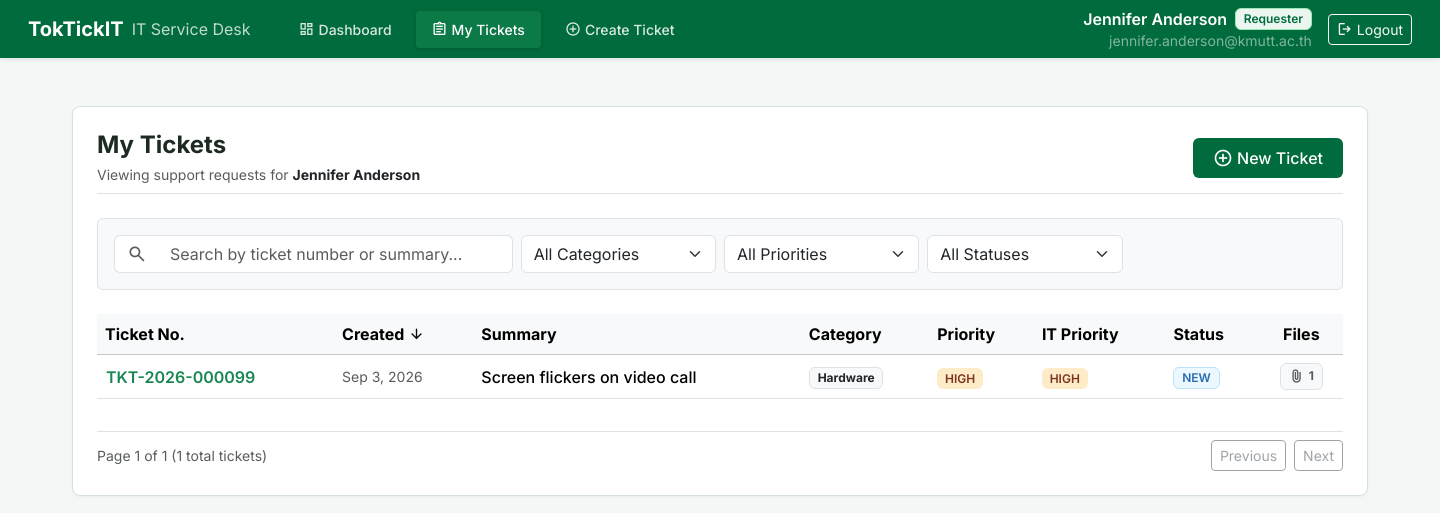
Test: Lab 2 Requester Ticket Detail Suite (client/tests/lab-02/RequesterTicketDetail.test.tsx) › displays unauthorized error alert when accessing non-owned ticket (UI-08, AC-14, BR-05)
The width and height of the screenshot is (1440, 513).
Step 1. Click the button "TKT-2026-000099" → (181, 377), box x1=105 y1=364 x2=256 y2=390
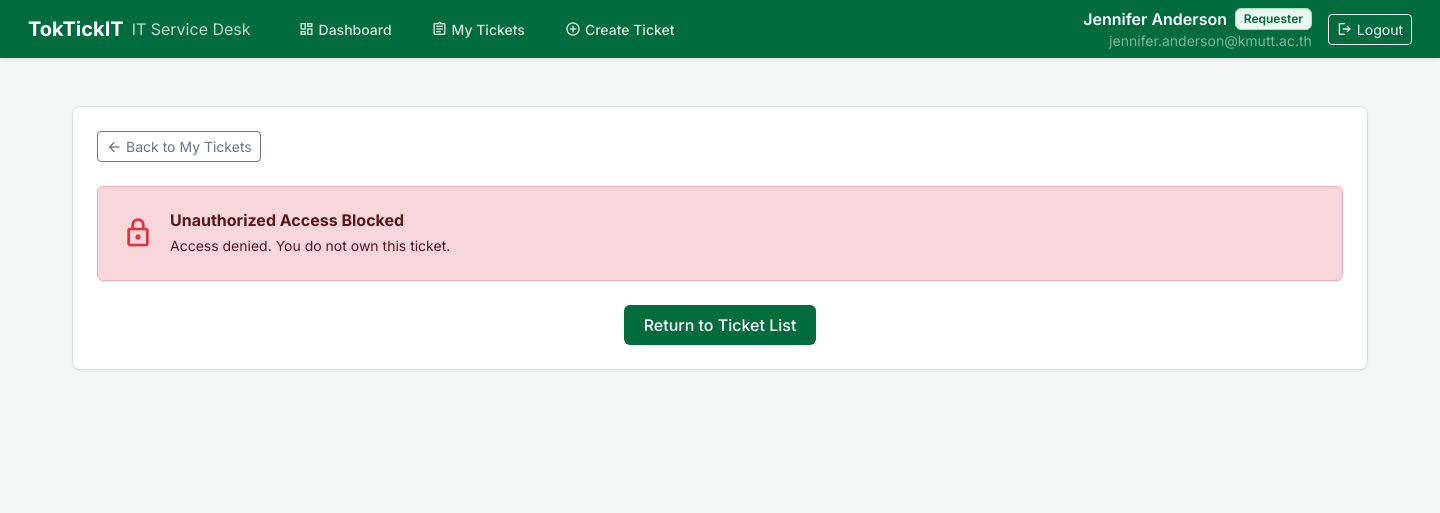
expect the element with test id "ticket-detail-error" is shown: met, box x1=72 y1=106 x2=1368 y2=370
expect the heading "Unauthorized Access Blocked" is shown: met, box x1=170 y1=210 x2=404 y2=230
expect the text "Access denied. You do not own this ticket." is shown: met, box x1=170 y1=235 x2=450 y2=256
